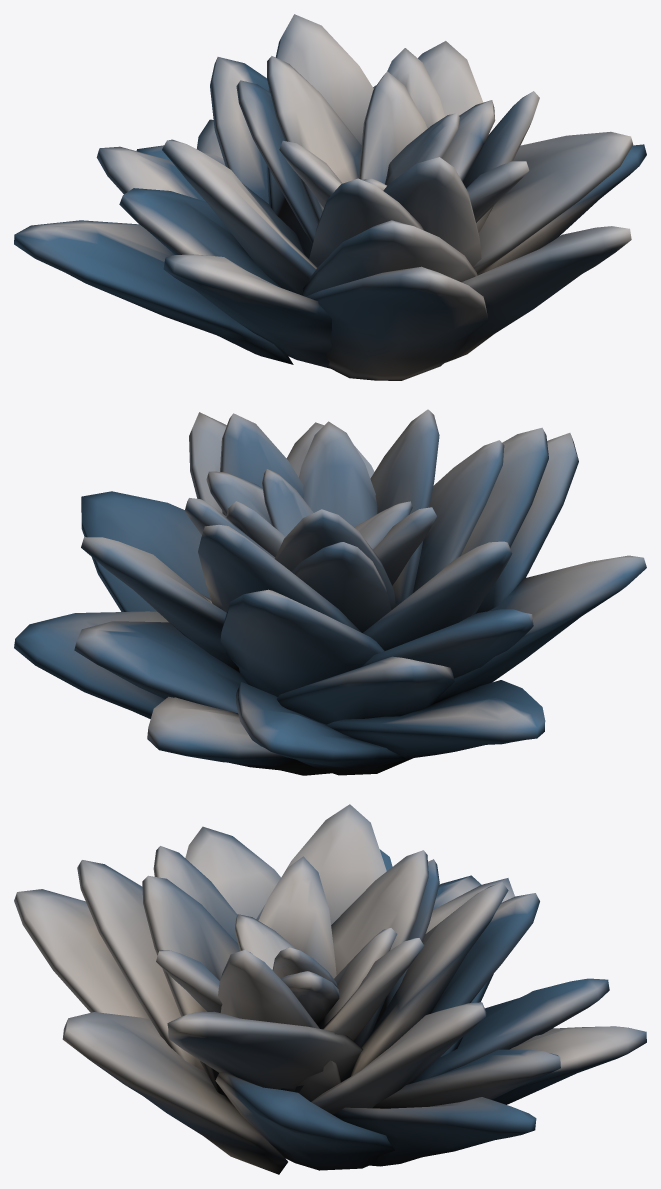
File: PlantSucculent.fbx
The picture shows the model from 3 angles, top to bottom: view 1: azimuth 30°, elevation 25°; view 2: azimuth 150°, elevation 25°; view 3: azimuth 270°, elevation 25°; orthographic projection. The views are drawn at different scales.
Visible parts, largest first — view 1: PlantSucculent; view 2: PlantSucculent; view 3: PlantSucculent.
Boxes of the visible parts, box(x1,y1,x2,y2) form: PlantSucculent: box(14, 14, 646, 380); PlantSucculent: box(14, 409, 646, 775); PlantSucculent: box(14, 804, 646, 1174).
Size of the model in its own units: 30.88 by 14.95 by 30.99.
